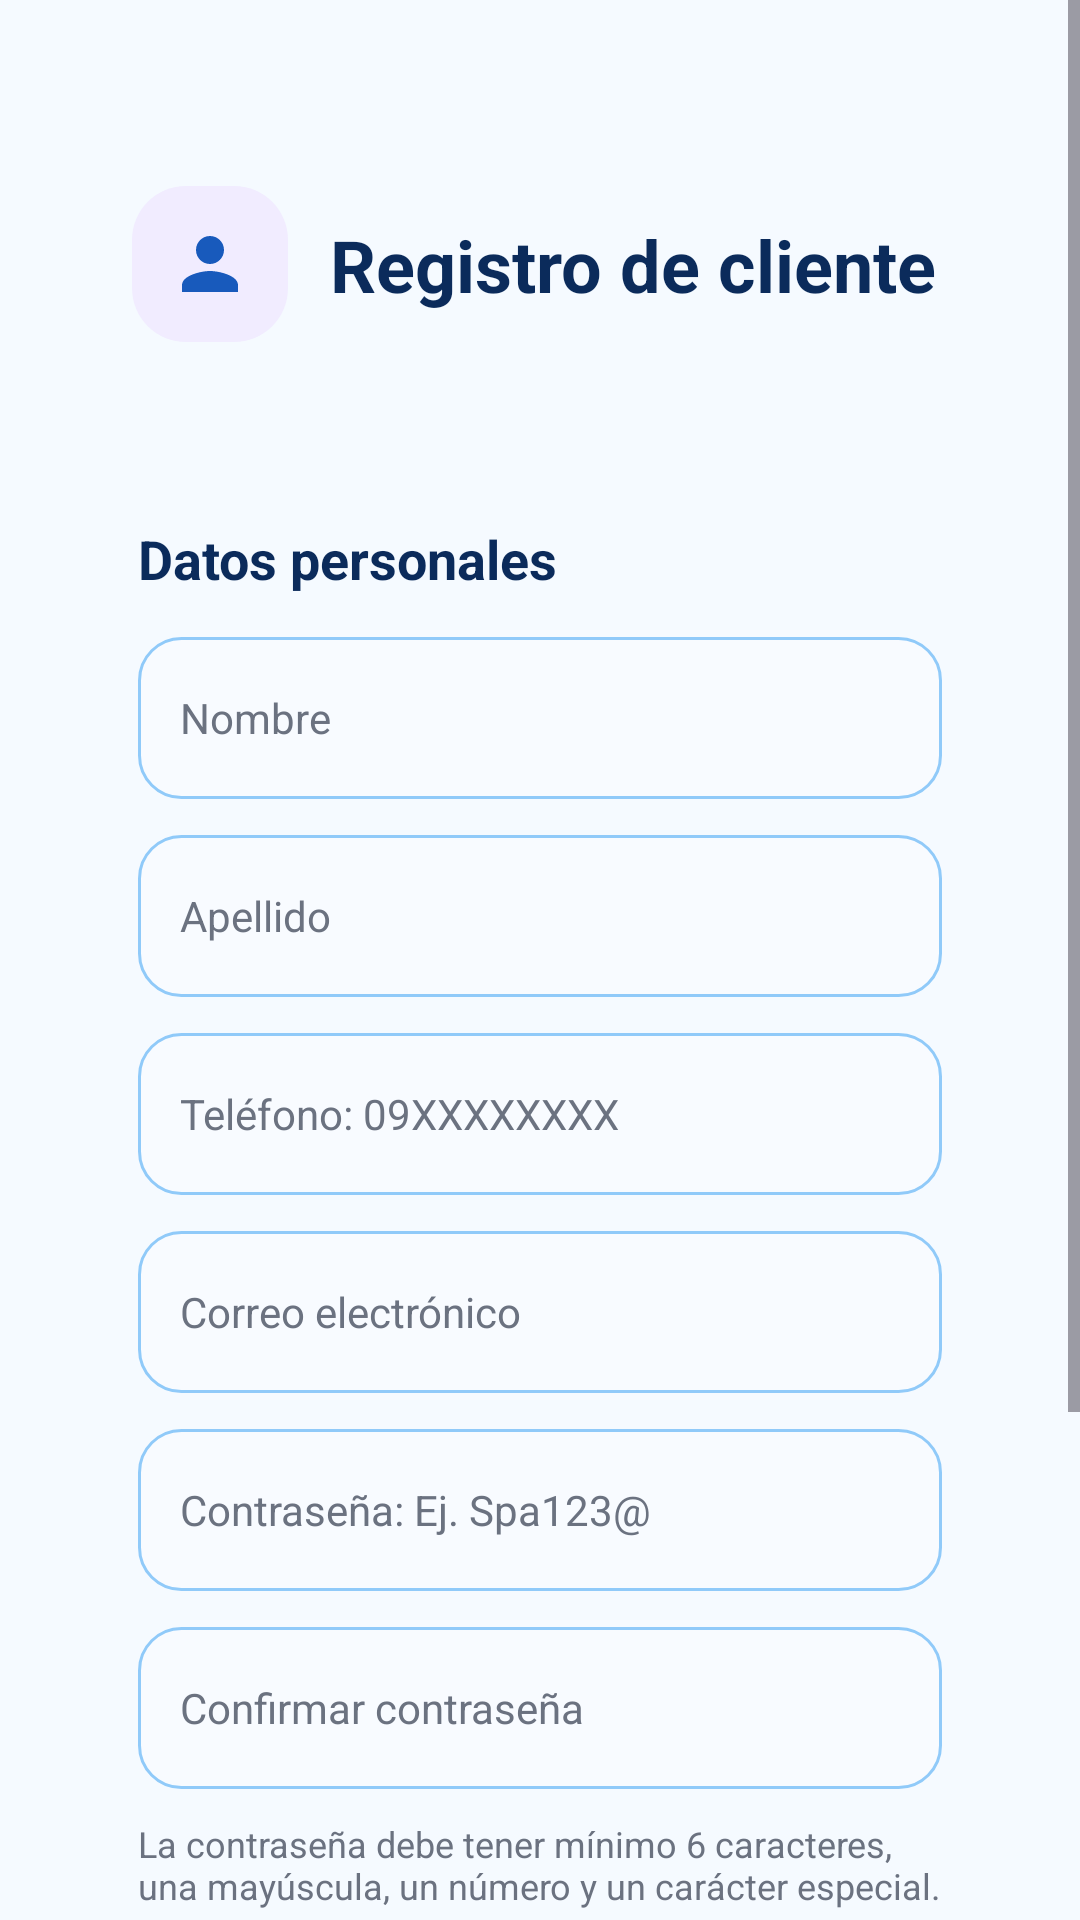

Icons on this 1080px×1920px Android screen, each with the point to tap as [x,y]:
Icono registro: [210,264]
